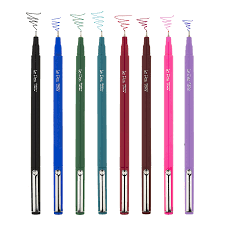qillqana: (90, 8, 113, 217), (133, 13, 156, 218), (24, 9, 44, 215), (50, 10, 68, 221), (181, 15, 197, 216)
